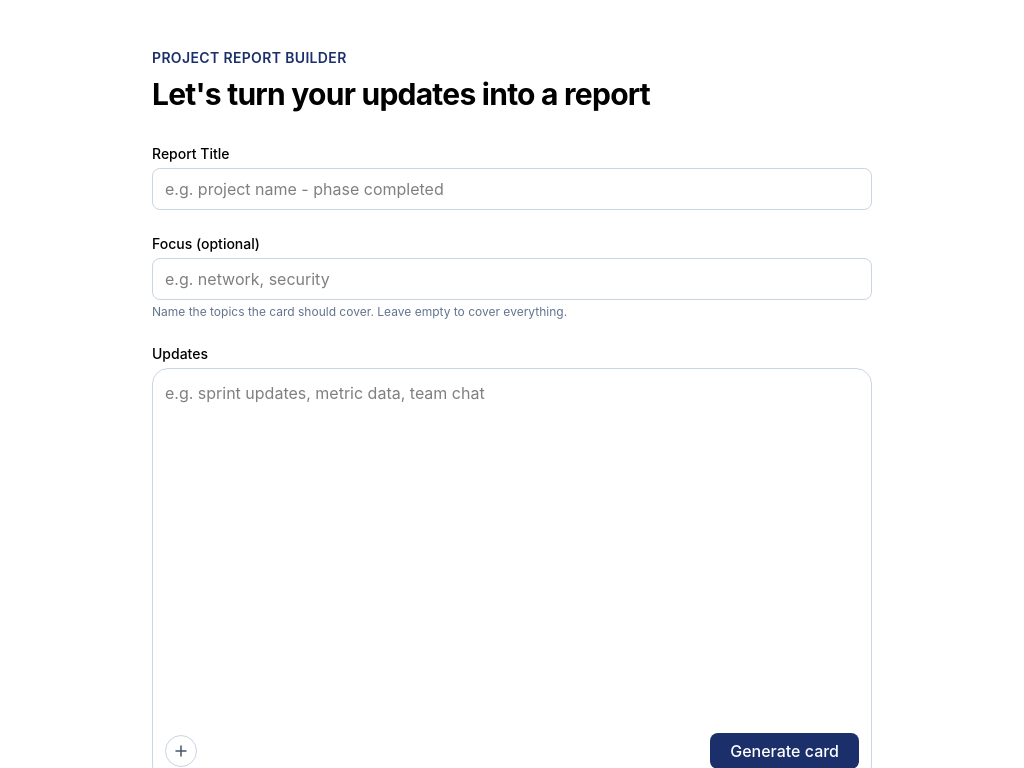
Test case: card flow › hides and shows the blocks panel, keeping its open sections
In the text box labelled "Updates": (512, 554) [165,381,859,727], type "Atlas finished early."
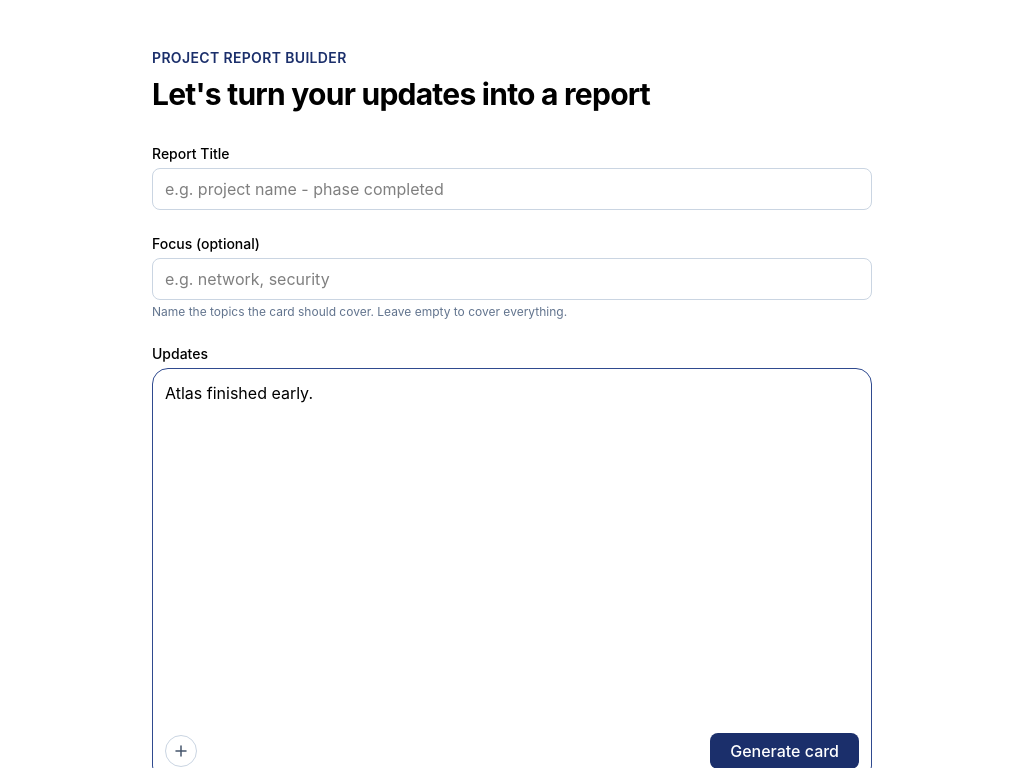
Click the button "Generate card": (785, 751) [710,733,859,767]
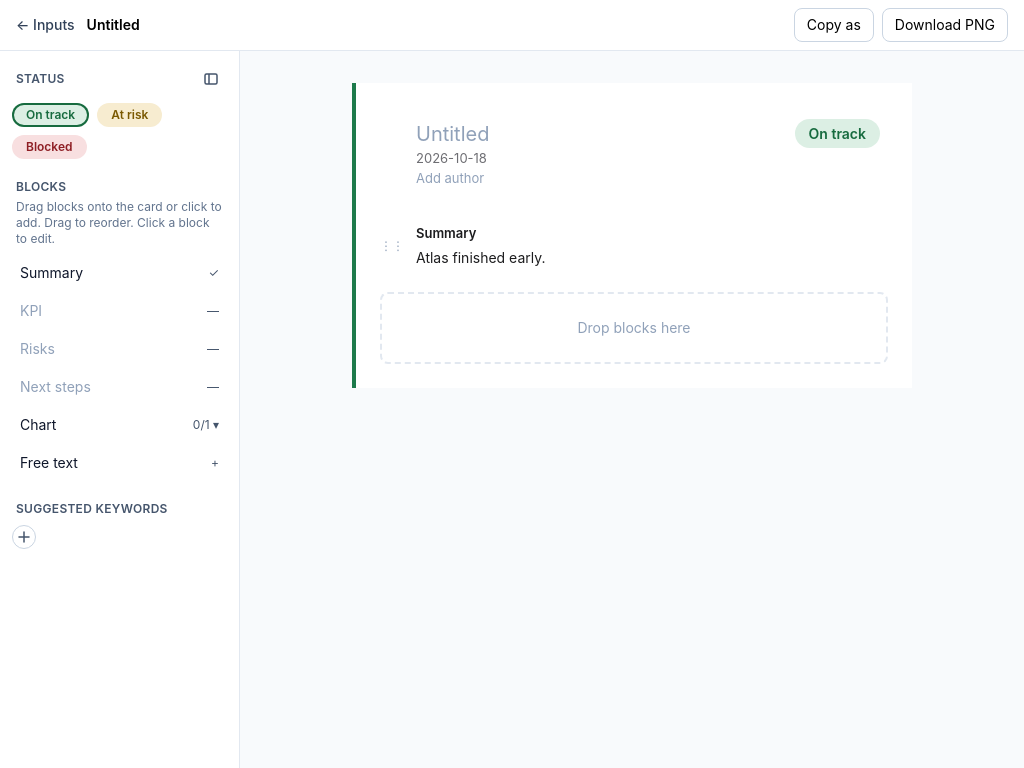
Check: the text box "Atlas finished early." is shown, box [416,248,824,268]
Click the button "Chart 0/1 ▾": (120, 425) [12,407,227,443]
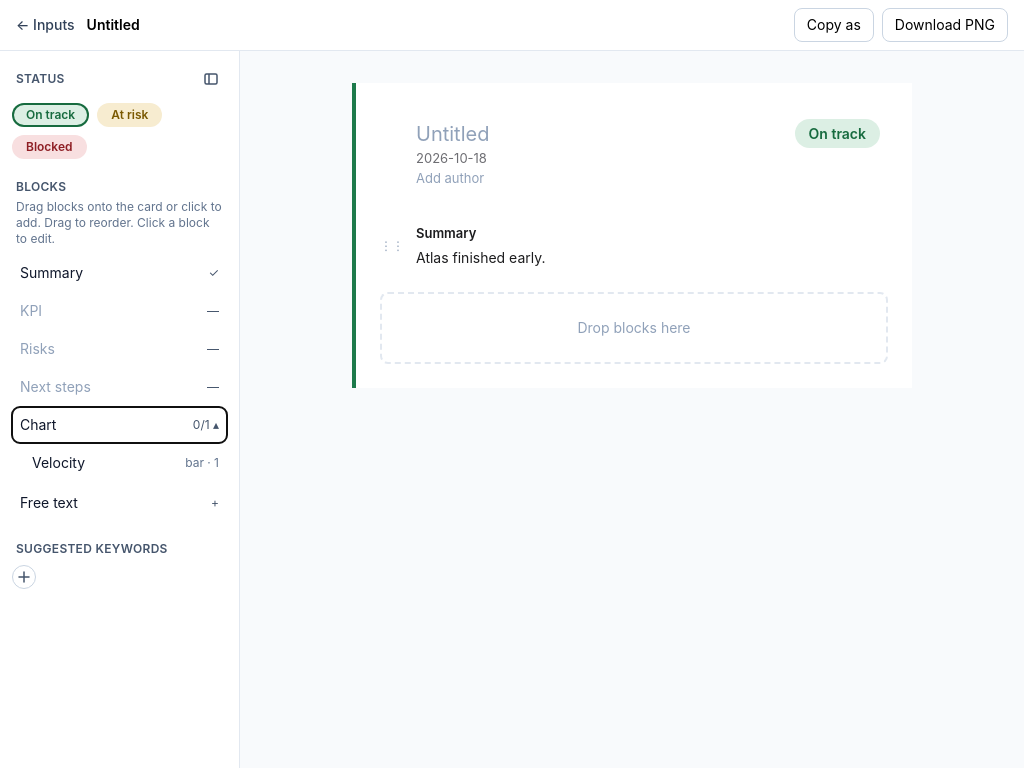
Click the button named "Hide blocks panel": (211, 79) [195,63,227,95]
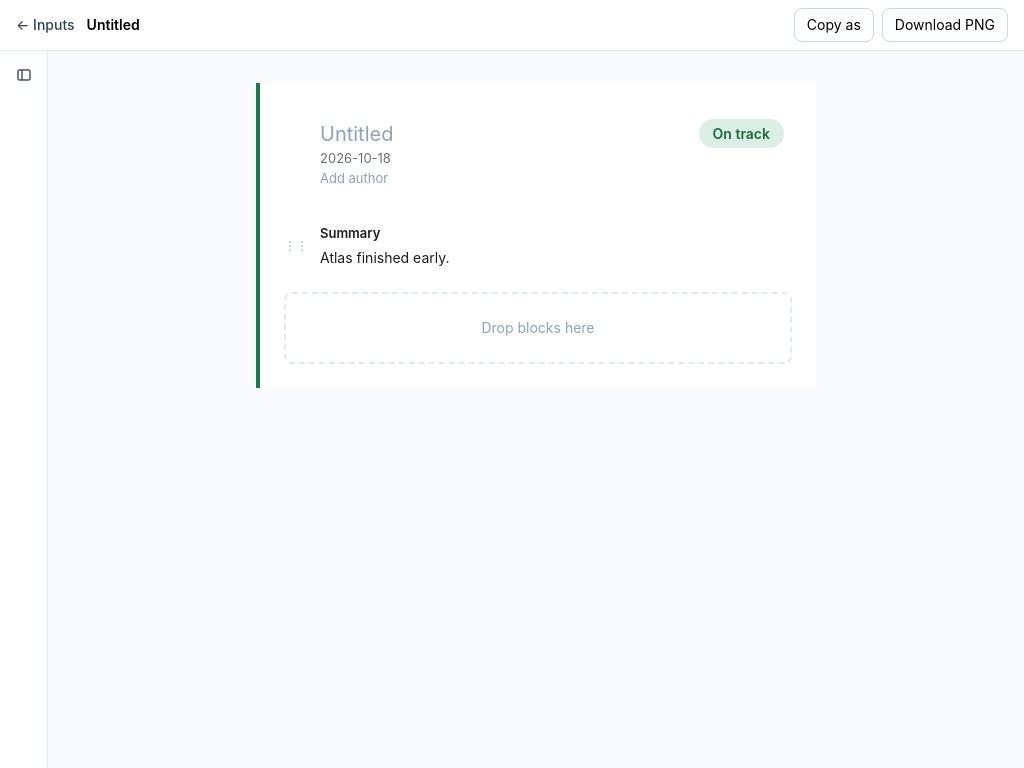
Click the button named "Show blocks panel": (24, 75) [8,59,40,91]
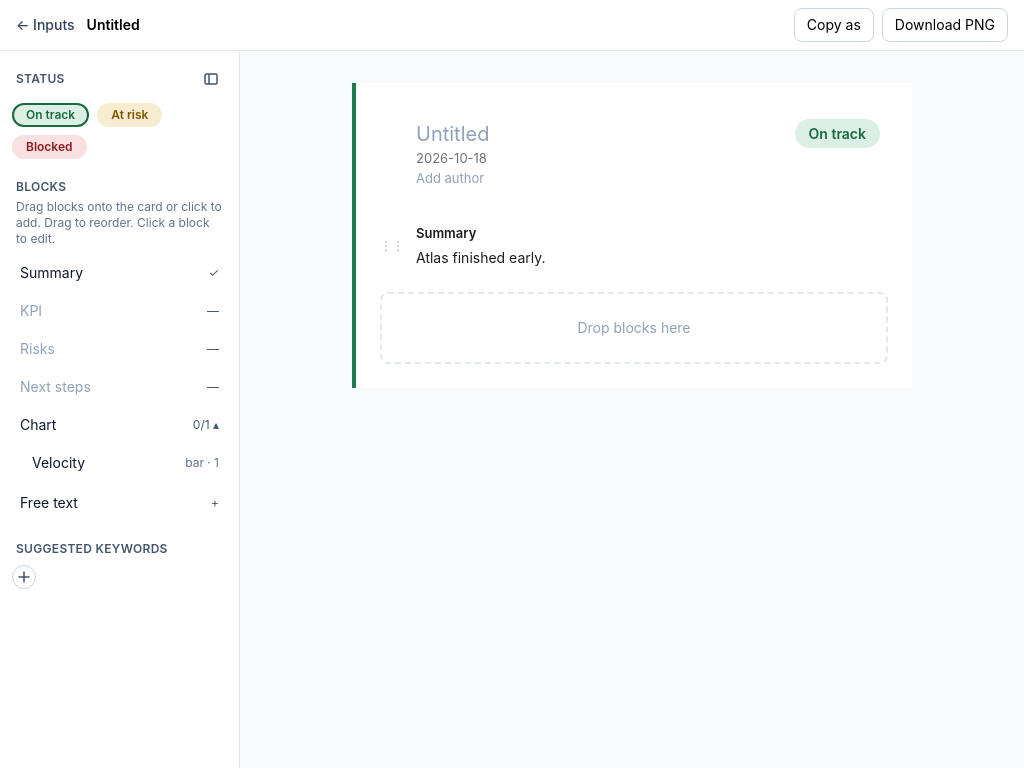
Check: the button "Chart 0/1 ▴" is expanded, box [12,407,227,443]
Check: the navigation bar "Blocks" is shown, box [0,51,240,767]
